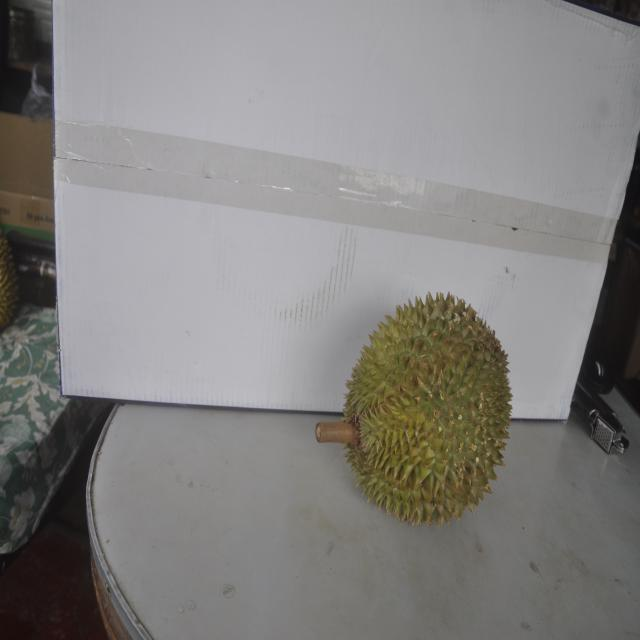mature: (337, 288, 516, 527)
